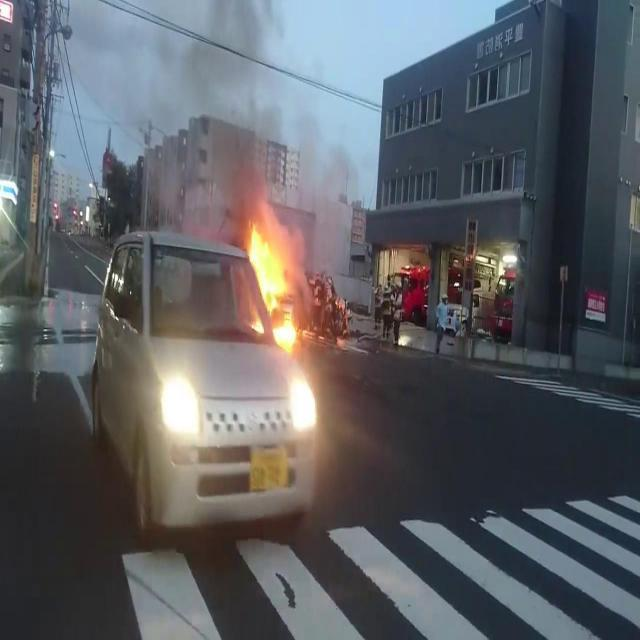Fire: (234, 220, 302, 354)
